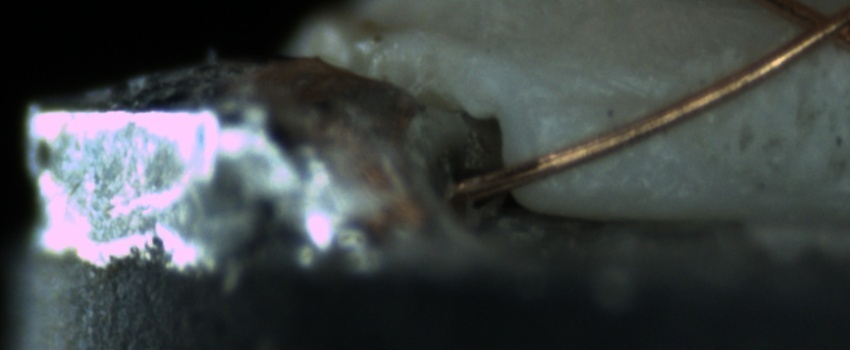CL: (775, 1, 850, 57)
DL: (536, 67, 670, 135)
